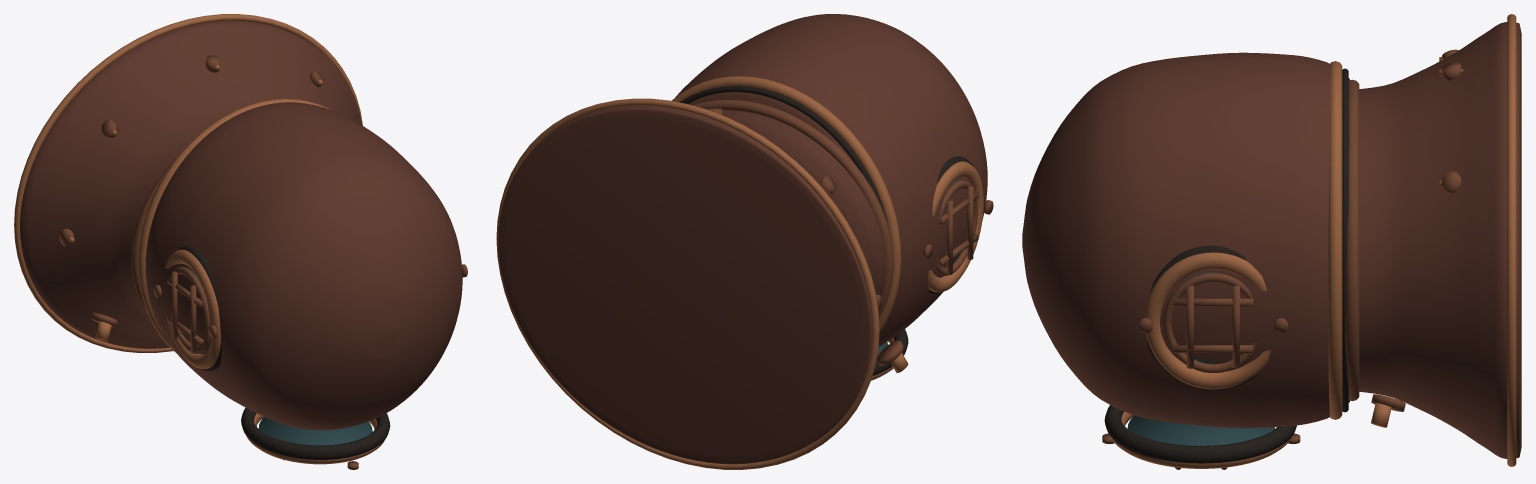
File: early-1881-47-runtime.obj
3 views of the same model, side by side, from view 1: azimuth 30°, elevation 25°; view 2: azimuth 150°, elevation 25°; view 3: azimuth 270°, elevation 25° (orthographic). The views are drawn at different scales.
Parts seen in each view (by area): view 1: Bonnet_RoundedCopper, Breastplate_DishedCopper, Breastplate_OuterRolledEdge, FrontPort_RaisedSeat, Bonnet_BaseRolledSeam, LeftPort_CopperRim, FrontPort_Glass, Breastplate_InnerLip, LeftPort_InnerBead, FrontPort_CopperRim, LeftPort_RaisedSeat; view 2: Breastplate_DishedCopper, Bonnet_RoundedCopper, Breastplate_OuterRolledEdge, Bonnet_BaseRolledSeam, Breastplate_InnerLip, LeftPort_CopperRim, Bonnet_LowerShadowSeam, LeftPort_InnerBead; view 3: Bonnet_RoundedCopper, Breastplate_DishedCopper, Bonnet_BaseRolledSeam, RightPort_CopperRim, Breastplate_OuterRolledEdge, Breastplate_InnerLip, FrontPort_RaisedSeat, FrontPort_Glass, Bonnet_LowerShadowSeam, RightPort_InnerBead, FrontPort_CopperRim, RightPort_RaisedSeat (+4 smaller).
Part boxes in pixels (box(x1,y1,x2,y2)): Bonnet_RoundedCopper: box(145, 102, 462, 430); Breastplate_DishedCopper: box(20, 20, 361, 348); Breastplate_OuterRolledEdge: box(14, 14, 362, 352); FrontPort_RaisedSeat: box(241, 407, 390, 459); Bonnet_BaseRolledSeam: box(138, 99, 330, 352); LeftPort_CopperRim: box(165, 249, 220, 368); FrontPort_Glass: box(258, 417, 372, 445); Breastplate_InnerLip: box(131, 158, 176, 313); LeftPort_InnerBead: box(170, 267, 210, 353); FrontPort_CopperRim: box(246, 413, 384, 464); LeftPort_RaisedSeat: box(178, 246, 221, 370); Breastplate_DishedCopper: box(498, 106, 885, 464); Bonnet_RoundedCopper: box(675, 14, 987, 346); Breastplate_OuterRolledEdge: box(496, 98, 879, 469); Bonnet_BaseRolledSeam: box(672, 76, 901, 331); Breastplate_InnerLip: box(692, 100, 893, 316); LeftPort_CopperRim: box(927, 161, 983, 292); Bonnet_LowerShadowSeam: box(680, 86, 887, 317); LeftPort_InnerBead: box(936, 180, 977, 275); Bonnet_RoundedCopper: box(1022, 52, 1349, 428); Breastplate_DishedCopper: box(1359, 22, 1521, 458); Bonnet_BaseRolledSeam: box(1328, 61, 1342, 419); RightPort_CopperRim: box(1145, 252, 1270, 389); Breastplate_OuterRolledEdge: box(1507, 14, 1516, 466); Breastplate_InnerLip: box(1345, 79, 1359, 401); FrontPort_RaisedSeat: box(1104, 405, 1296, 463); FrontPort_Glass: box(1127, 415, 1274, 445); Bonnet_LowerShadowSeam: box(1342, 68, 1348, 412); RightPort_InnerBead: box(1163, 273, 1257, 372); FrontPort_CopperRim: box(1111, 412, 1290, 468); RightPort_RaisedSeat: box(1146, 245, 1254, 390).
Size of the model in its own units: 0.46 by 0.417 by 0.465.
